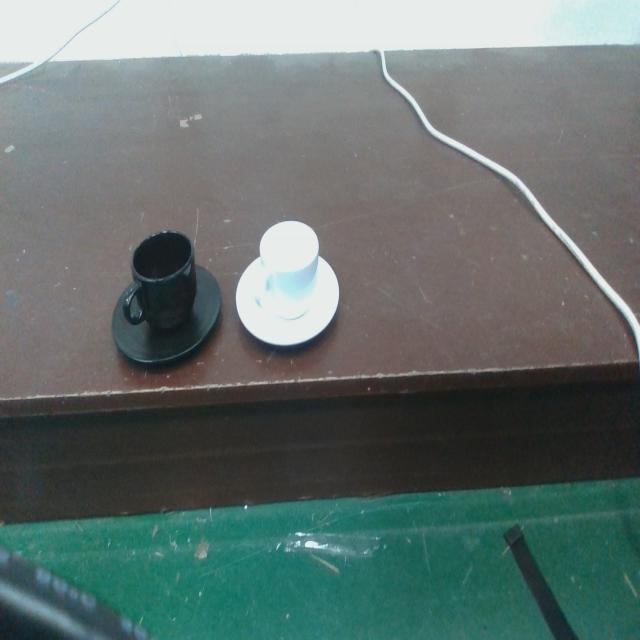black: (109, 227, 225, 367)
white: (234, 217, 341, 349)
